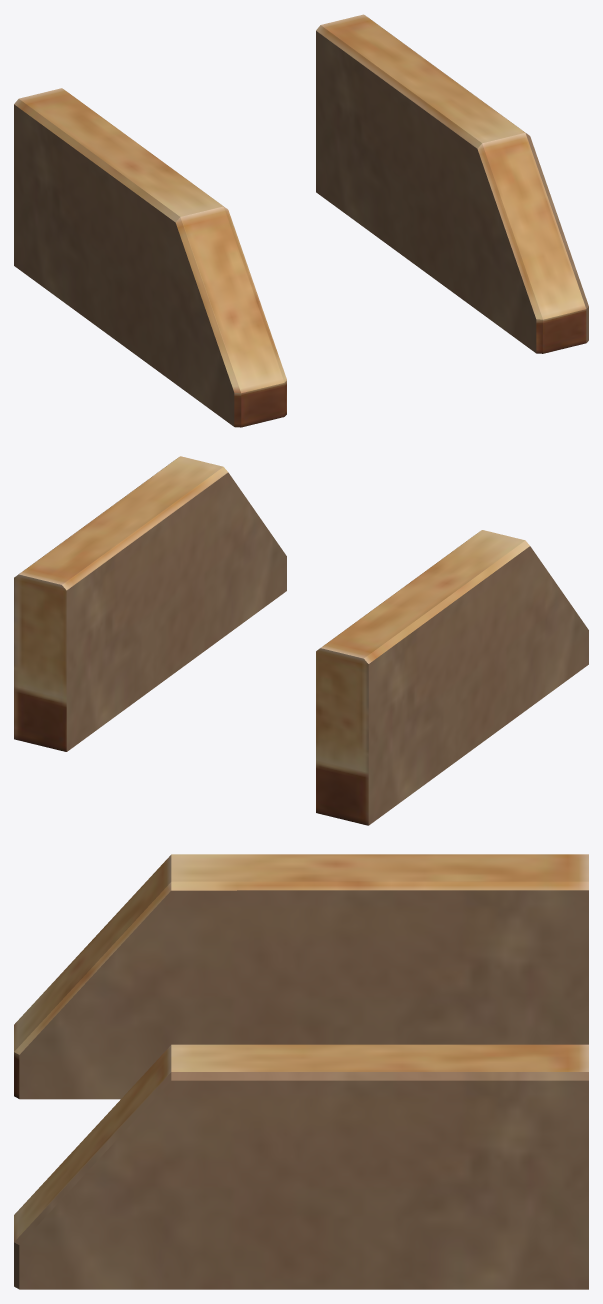
File: Raillng.glb
The picture shows the model from 3 angles, top to bottom: view 1: azimuth 30°, elevation 25°; view 2: azimuth 150°, elevation 25°; view 3: azimuth 270°, elevation 25°; orthographic projection. The views are drawn at different scales.
Parts seen in each view (by area): view 1: Raillng; view 2: Raillng; view 3: Raillng.
Boxes of the visible parts, x1,y1,x2,y2 form: Raillng: (14, 14, 588, 427); Raillng: (14, 456, 588, 825); Raillng: (14, 854, 588, 1289).
Size of the model in its own units: 5.94 by 2.66 by 6.45.
1 material, 1 textured.
